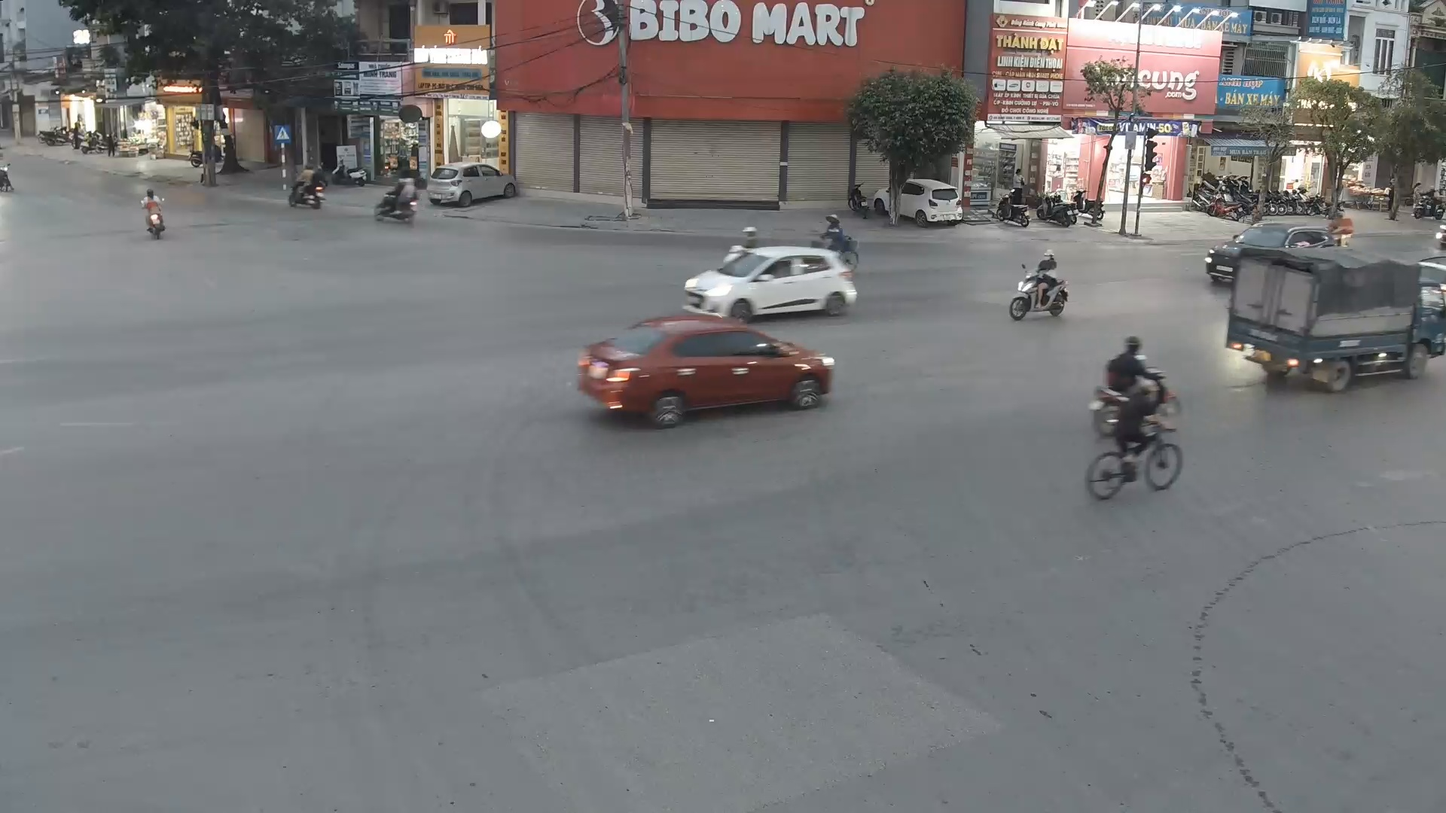car: (574, 315, 836, 428), (682, 242, 860, 324)
motorbike: (1083, 379, 1187, 501), (1088, 333, 1180, 439), (1006, 248, 1071, 323), (372, 179, 420, 223), (140, 187, 168, 242)
truck: (1222, 248, 1437, 391)
